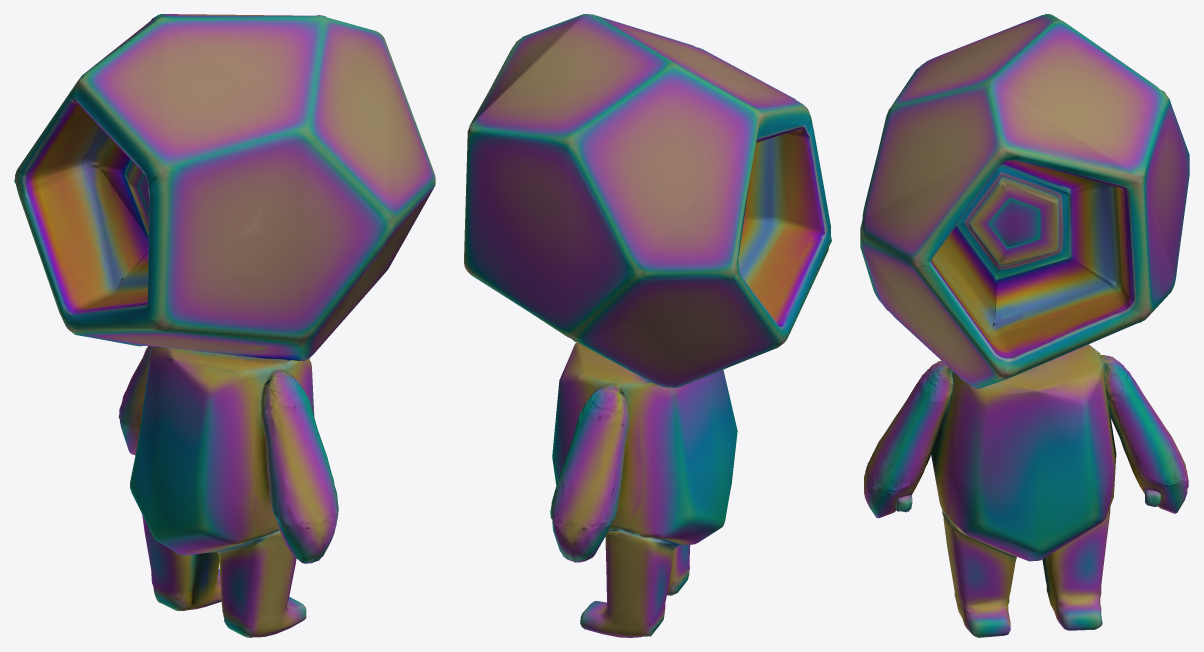
The model's file is pal_12.glb.
3 views of the same model, side by side, from view 1: azimuth 30°, elevation 25°; view 2: azimuth 150°, elevation 25°; view 3: azimuth 270°, elevation 25° (orthographic). The views are drawn at different scales.
Parts seen in each view (by area): view 1: tripo_node_22cccbb4-f62e-4335-9f97-0573a37c9019; view 2: tripo_node_22cccbb4-f62e-4335-9f97-0573a37c9019; view 3: tripo_node_22cccbb4-f62e-4335-9f97-0573a37c9019.
Boxes of the visible parts, x1,y1,x2,y2 form: tripo_node_22cccbb4-f62e-4335-9f97-0573a37c9019: (14,14,435,637); tripo_node_22cccbb4-f62e-4335-9f97-0573a37c9019: (464,14,831,637); tripo_node_22cccbb4-f62e-4335-9f97-0573a37c9019: (860,14,1189,637).
Size of the model in its own units: 0.5332 by 0.998 by 0.5176.
1 material, 1 textured.
